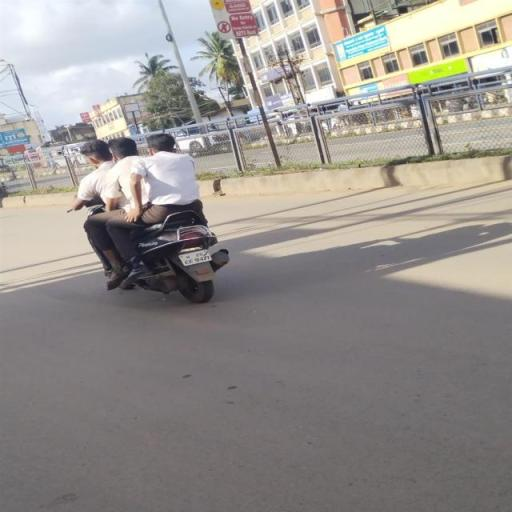tripple riding: (66, 132, 214, 222)
